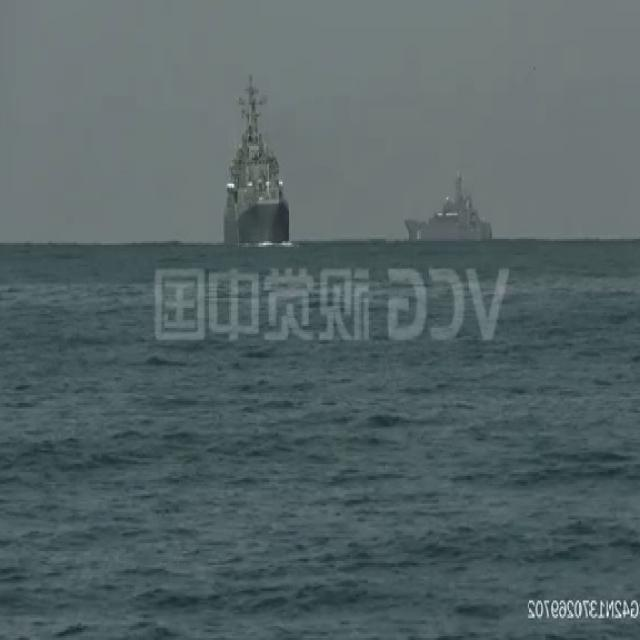navalvessels: (222, 76, 290, 243), (405, 170, 493, 245)
